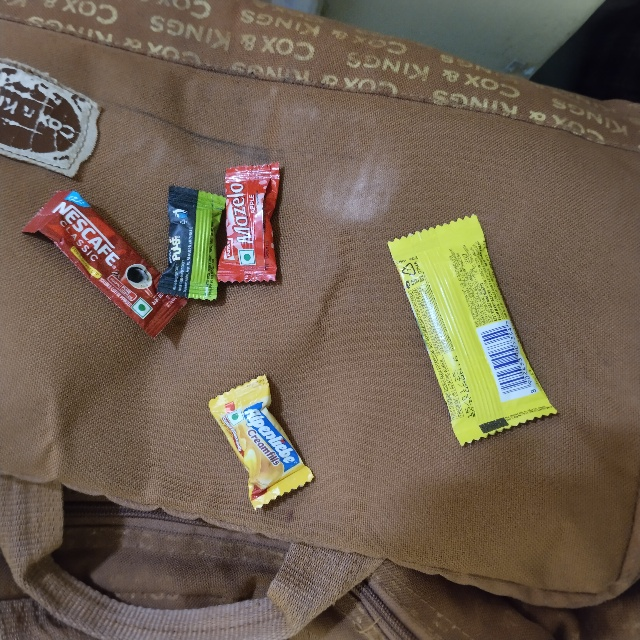Alpenlibe Creamfills: (197, 396, 277, 526)
Mazelo: (222, 161, 285, 285)
Nescafe Coffee: (66, 180, 240, 243)
Orbit: (381, 241, 485, 461)
Pulse: (164, 186, 222, 298)
